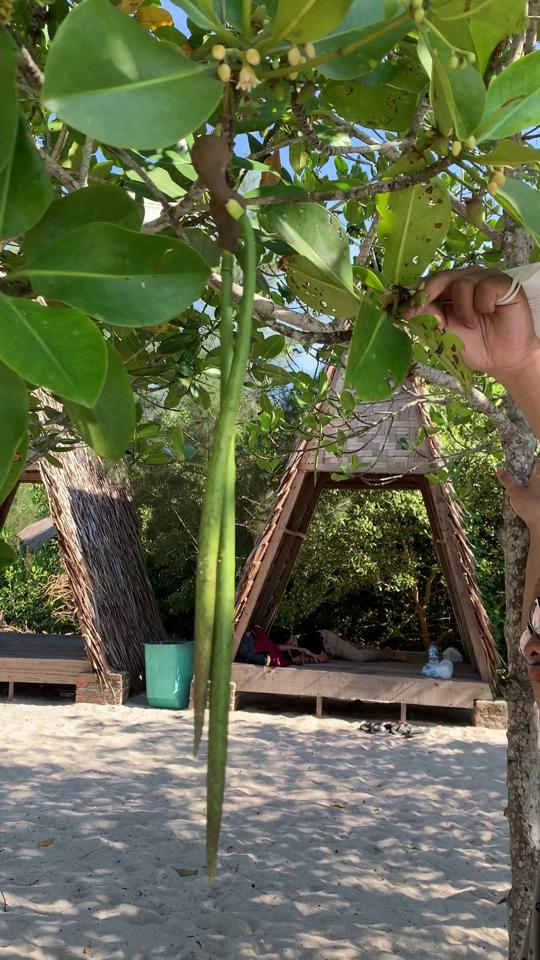setengah matang: (189, 123, 268, 763)
